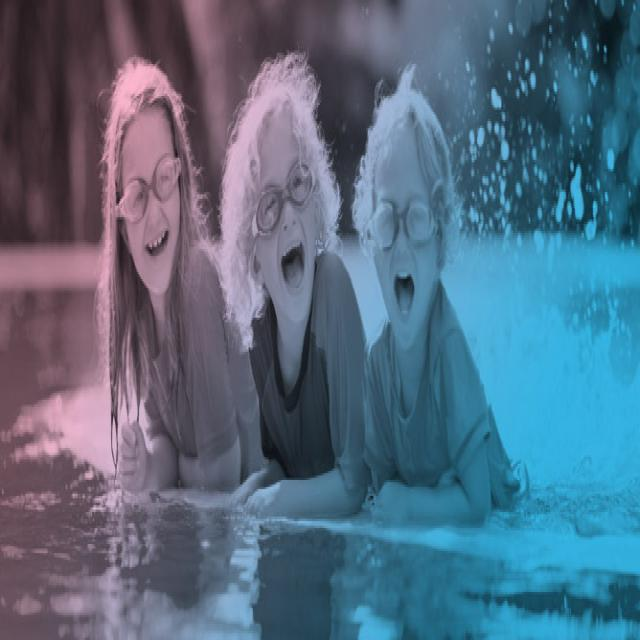child: (352, 70, 526, 524), (101, 52, 263, 493), (216, 60, 370, 521)
